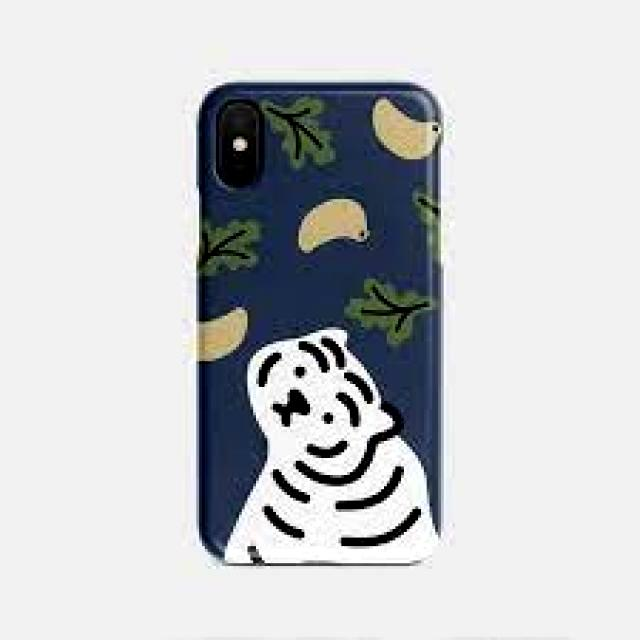lens_back: (219, 102, 258, 140), (220, 150, 258, 188)
phone: (186, 74, 447, 568)
